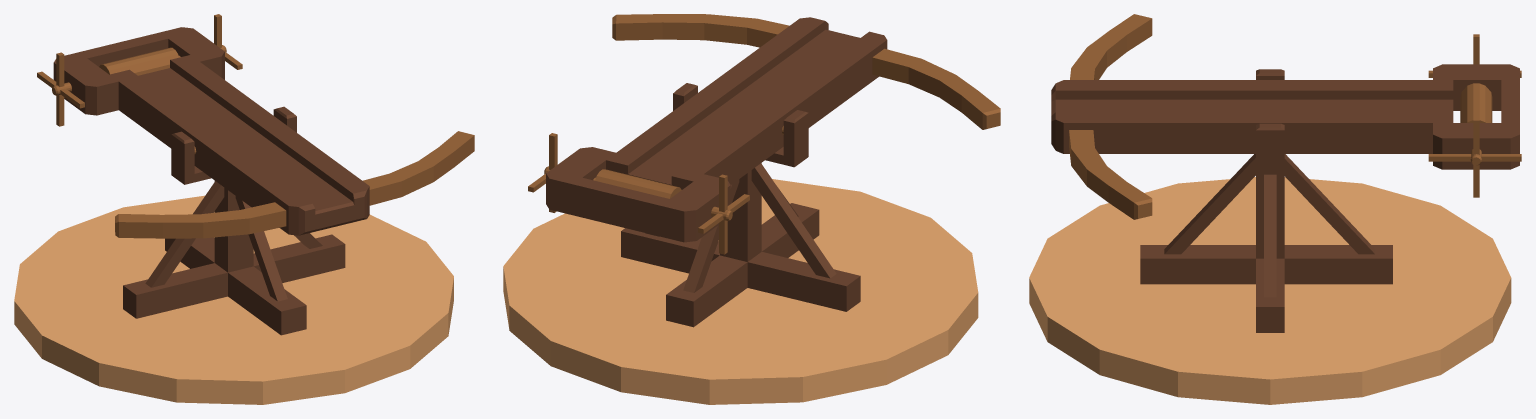
Rendered from Ballista_2.fbx.
3 renders of one model, left to right at view 1: azimuth 30°, elevation 25°; view 2: azimuth 150°, elevation 25°; view 3: azimuth 270°, elevation 25°, orthographic. The views are drawn at different scales.
Parts seen in each view (by area): view 1: Ballista_2, mobile_ballista-2, recharge_ballista-2; view 2: Ballista_2, mobile_ballista-2, recharge_ballista-2; view 3: Ballista_2, mobile_ballista-2, recharge_ballista-2.
Part boxes in pixels (x1,y1,x2,y2): Ballista_2: [14, 106, 453, 404]; mobile_ballista-2: [53, 27, 474, 238]; recharge_ballista-2: [37, 14, 242, 126]; Ballista_2: [503, 83, 978, 404]; mobile_ballista-2: [546, 14, 1000, 242]; recharge_ballista-2: [528, 133, 749, 254]; Ballista_2: [1029, 69, 1511, 404]; mobile_ballista-2: [1051, 14, 1519, 219]; recharge_ballista-2: [1428, 34, 1521, 197].
Size of the model in its own units: 60 by 30.98 by 61.31.
